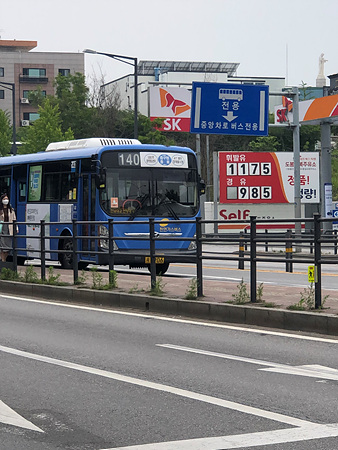bnum: (117, 151, 140, 165)
